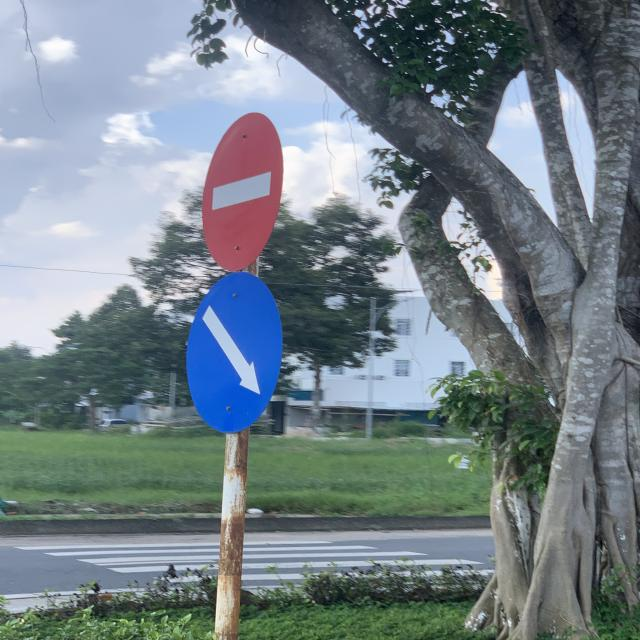Cam_Di_Nguoc_Chieu: (201, 111, 284, 272)
Chi_Huong_Di_Phai: (184, 273, 287, 435)
